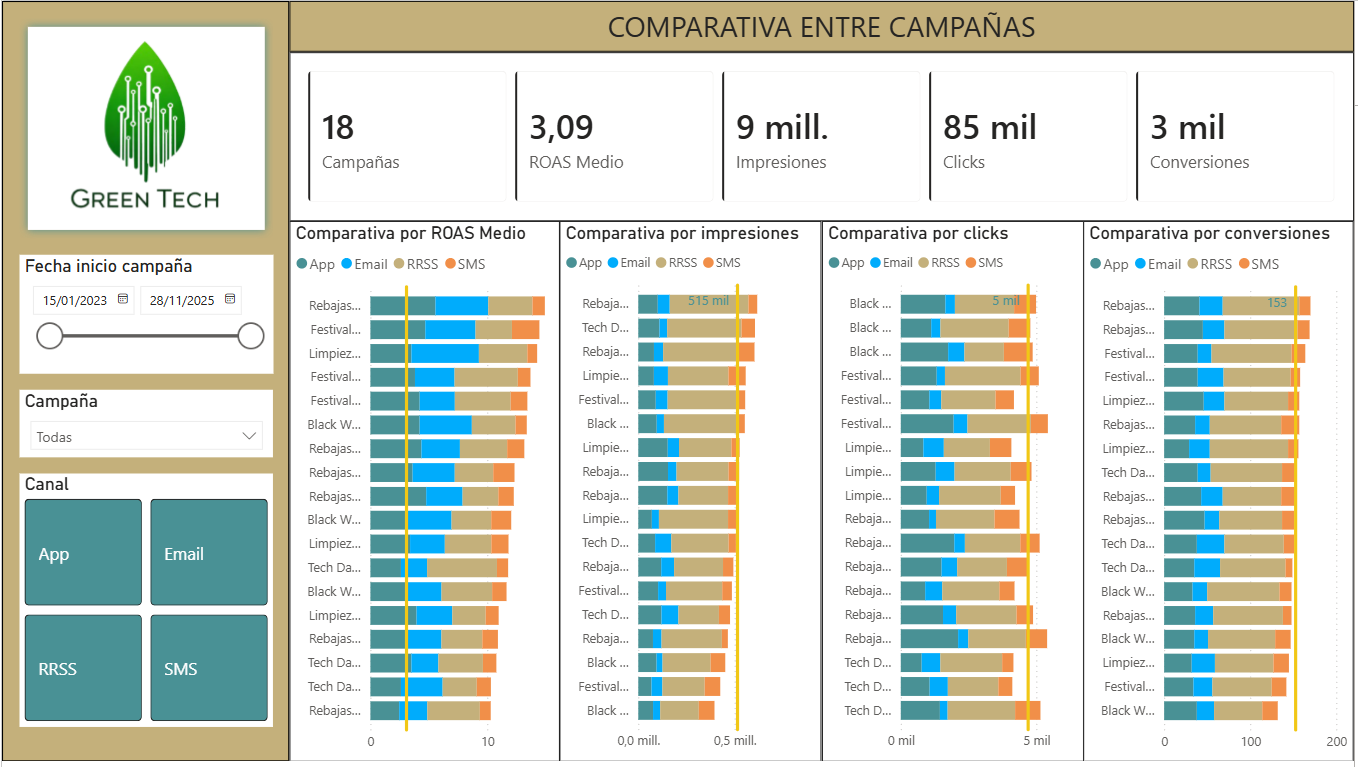

The page's visual inventory and layout, read from the dashboard file:
{"tool":"powerbi","page":{"name":"Comparativa Entre Campañas","canvas":[1280,720],"ordinal":2},"visuals":[{"type":"shape","box":[0,0,272,720],"z":0},{"type":"textbox","box":[272,0,1008,48],"z":1000},{"type":"shape","box":[16,16,240,208],"z":2000},{"type":"actionButton","box":[48,32,176,176],"z":3000},{"type":"slicer","title":"Campaña","fields":{"Values":["campanas.nombre"]},"box":[16,368,240,64],"z":4000},{"type":"slicer","title":"Fecha inicio campaña","fields":{"Values":["campanas.fecha_inicio"]},"box":[16,240,240,112],"z":5000},{"type":"advancedSlicerVisual","fields":{"Values":["canales.nombre"]},"box":[16,448,240,240],"z":6000},{"type":"cardVisual","fields":{"Data":["CountNonNull(campanas.campaña_id)","Avg(campanas.ROAS_medio)","Sum(campanas.impresiones)","Sum(campanas.clicks)","Sum(campanas.conversiones)"]},"box":[272,48,1008,160],"z":7000},{"type":"barChart","title":"Comparativa por impresiones","fields":{"Category":["campanas.nombre"],"Series":["canales.nombre"],"Y":["Sum(campanasCanal.impresiones)"]},"box":[528,208,248,512],"z":8000},{"type":"barChart","title":"Comparativa por clicks","fields":{"Category":["campanas.nombre"],"Series":["canales.nombre"],"Y":["Sum(campanasCanal.clicks)"]},"box":[776,208,248,512],"z":9000},{"type":"barChart","title":"Comparativa por conversiones","fields":{"Category":["campanas.nombre"],"Series":["canales.nombre"],"Y":["Sum(campanasCanal.conversion)"]},"box":[1024,208,256,512],"z":10000},{"type":"barChart","title":"Comparativa por ROAS Medio","fields":{"Category":["campanas.nombre"],"Series":["canales.nombre"],"Y":["Avg(campanasCanal.ROAS)"]},"box":[272,208,256,512],"z":11000}]}

Visuals, with their boxes in screenshot pixels (x1, y1, x2, y2), scaled from the page's 1280x720 canvas onto the 1358x767 screenshot:
shape: box(0, 0, 289, 766)
textbox: box(289, 0, 1357, 51)
shape: box(17, 17, 272, 239)
actionButton: box(51, 34, 238, 222)
"Campaña" slicer: box(17, 392, 272, 460)
"Fecha inicio campaña" slicer: box(17, 256, 272, 375)
advancedSlicerVisual - canales.nombre: box(17, 477, 272, 733)
cardVisual - CountNonNull(campanas.campaña_id) x Avg(campanas.ROAS_medio): box(289, 51, 1357, 222)
"Comparativa por impresiones" barChart: box(560, 222, 823, 766)
"Comparativa por clicks" barChart: box(823, 222, 1086, 766)
"Comparativa por conversiones" barChart: box(1086, 222, 1357, 766)
"Comparativa por ROAS Medio" barChart: box(289, 222, 560, 766)
